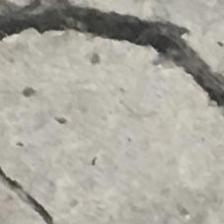Crack: (0, 1, 224, 178)
